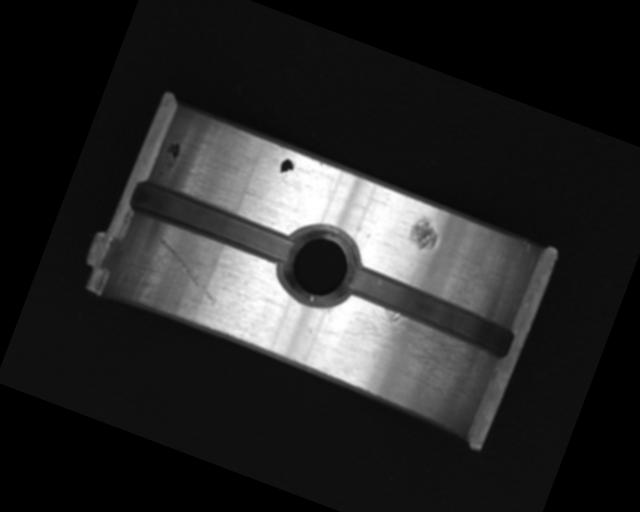blot: (160, 139, 184, 172), (276, 155, 297, 180)
bruise: (405, 214, 443, 254)
gap: (339, 262, 520, 362), (128, 177, 299, 269)
hole: (268, 214, 366, 317)
nick: (141, 235, 232, 308)
scratch: (317, 290, 494, 419)
